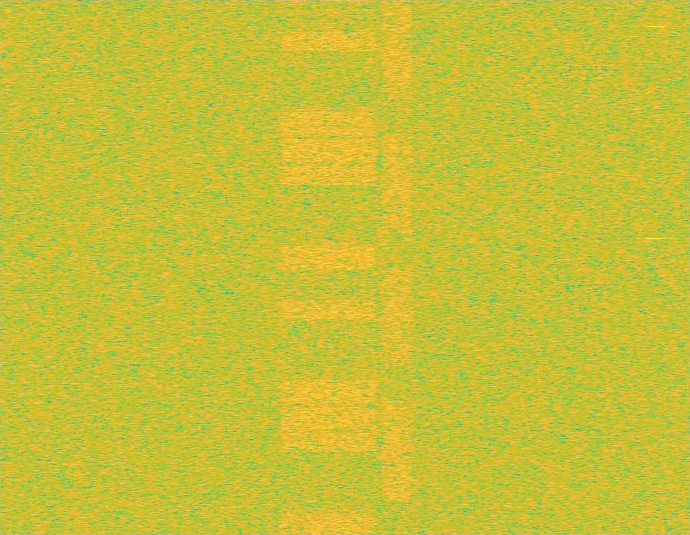5G: (380, 0, 415, 534)
LTE: (277, 0, 380, 534)
Radar: (648, 0, 662, 534)
